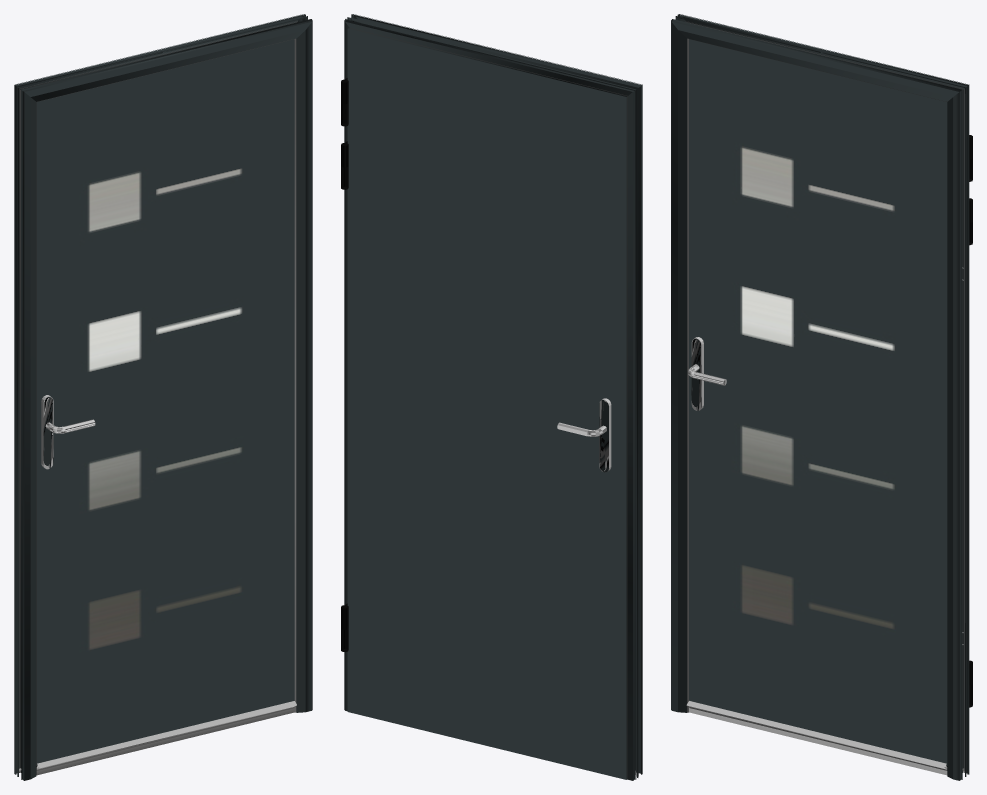
The picture shows the model from 3 angles, left to right: view 1: azimuth 30°, elevation 25°; view 2: azimuth 150°, elevation 25°; view 3: azimuth 330°, elevation 25°; orthographic projection.
Visible parts, largest first — view 1: ouvrant, 50, puxador; view 2: ouvrant, 50, puxador; view 3: ouvrant, 50, puxador.
Part boxes in pixels (x1,y1,x2,y2): ouvrant: (19,21,297,770); 50: (14,14,312,780); puxador: (41,395,53,469); ouvrant: (341,28,627,779); 50: (341,14,642,780); puxador: (599,398,611,472); ouvrant: (685,21,972,770); 50: (671,14,972,780); puxador: (691,337,703,410).
Size of the model in its own units: 96 by 218 by 19.09.
1 material, 1 textured.
